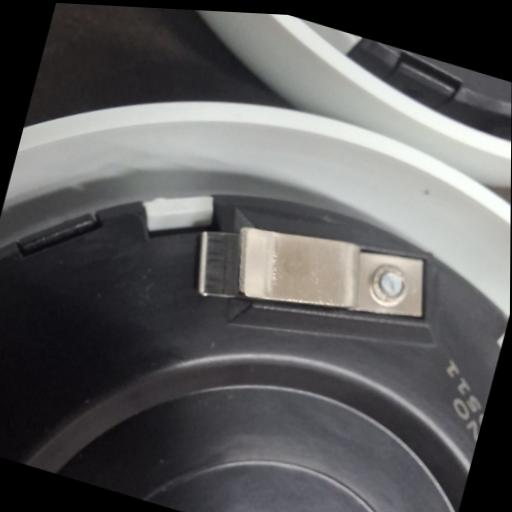yayli: (183, 191, 436, 361)
